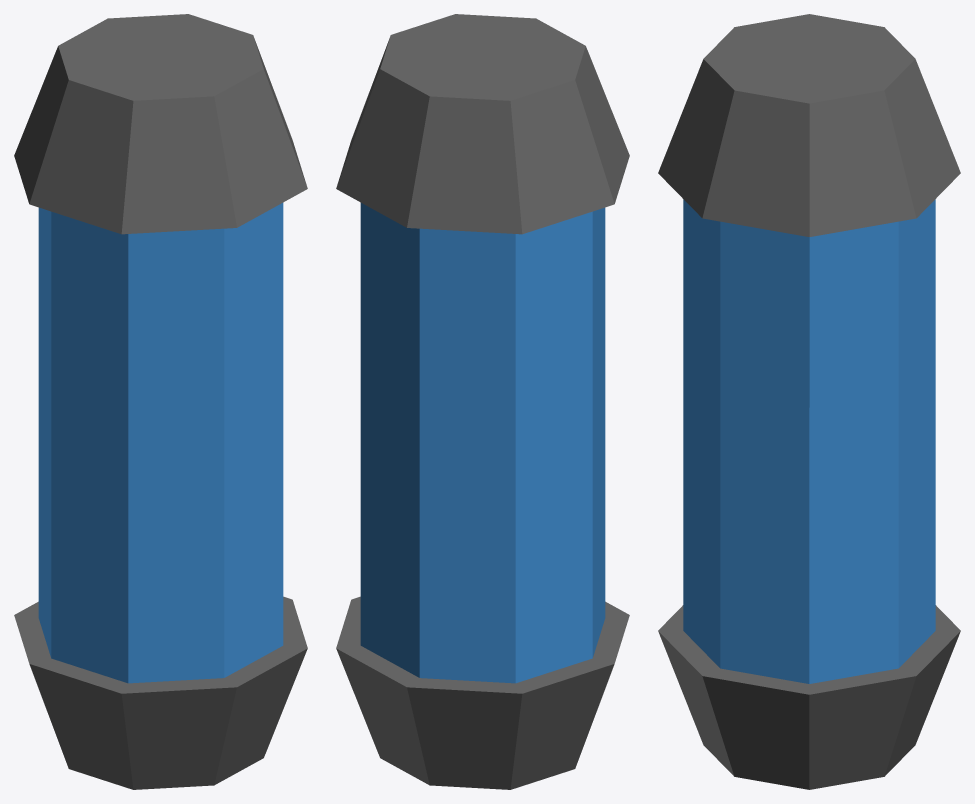
Rendered from Shield Drop.fbx.
The picture shows the model from 3 angles, left to right: view 1: azimuth 30°, elevation 25°; view 2: azimuth 150°, elevation 25°; view 3: azimuth 270°, elevation 25°; orthographic projection.
Visible parts, largest first — view 1: Cylinder; view 2: Cylinder; view 3: Cylinder.
Boxes of the visible parts, x1,y1,x2,y2 form: Cylinder: [14, 14, 307, 789]; Cylinder: [336, 14, 629, 789]; Cylinder: [658, 14, 960, 789].
Bounding box in the file's own units: 240 × 600 × 240.
